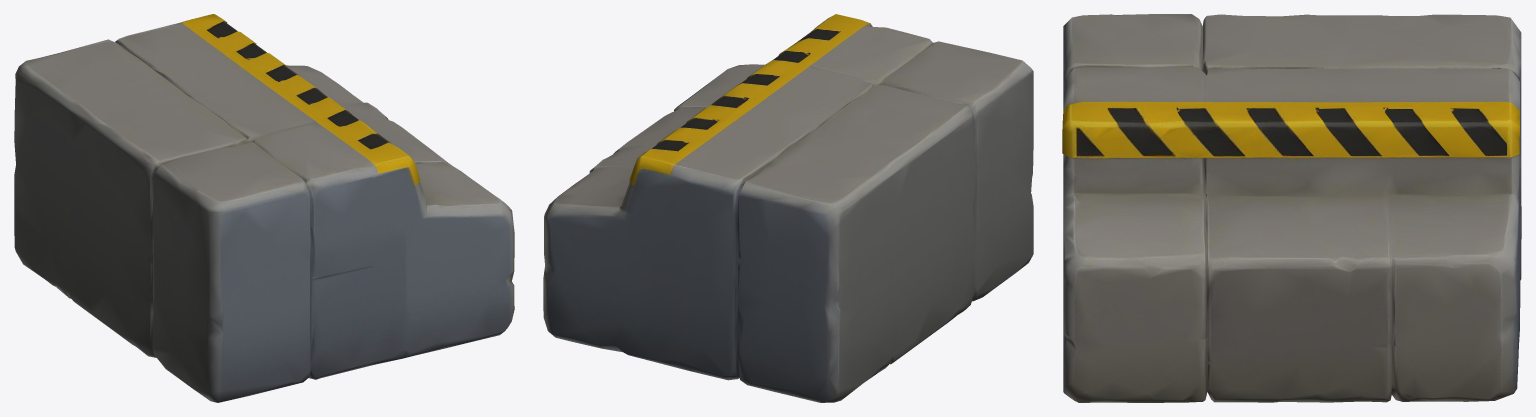
File: ObstaculoDegrau.glb
The picture shows the model from 3 angles, left to right: view 1: azimuth 30°, elevation 25°; view 2: azimuth 150°, elevation 25°; view 3: azimuth 270°, elevation 25°; orthographic projection. The views are drawn at different scales.
Parts seen in each view (by area): view 1: tripo_node_881b3f21-3637-45b5-a23b-0eb67c28fe93; view 2: tripo_node_881b3f21-3637-45b5-a23b-0eb67c28fe93; view 3: tripo_node_881b3f21-3637-45b5-a23b-0eb67c28fe93.
Boxes of the visible parts, x1,y1,x2,y2 form: tripo_node_881b3f21-3637-45b5-a23b-0eb67c28fe93: (14, 14, 514, 402); tripo_node_881b3f21-3637-45b5-a23b-0eb67c28fe93: (543, 14, 1033, 402); tripo_node_881b3f21-3637-45b5-a23b-0eb67c28fe93: (1062, 14, 1521, 402).
Size of the model in its own units: 0.7925 by 0.5 by 0.9122.
Materials: 1 (1 with a texture image).
